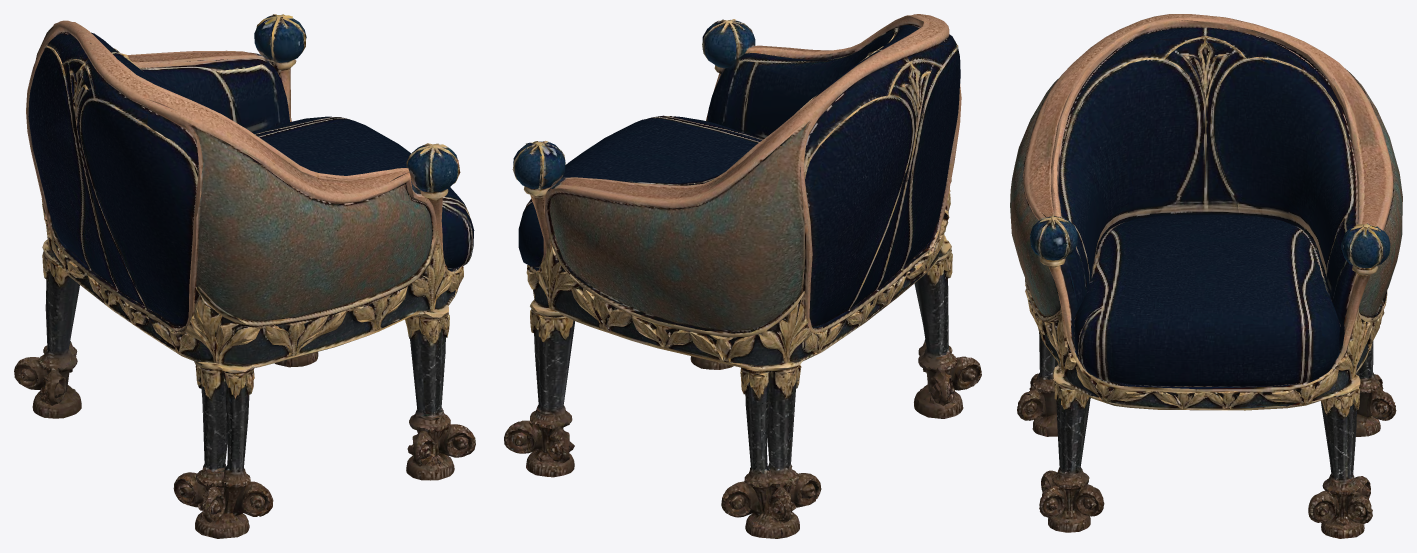
Rendered from HY-02_armchair_game.glb.
The picture shows the model from 3 angles, left to right: view 1: azimuth 30°, elevation 25°; view 2: azimuth 150°, elevation 25°; view 3: azimuth 270°, elevation 25°; orthographic projection. The views are drawn at different scales.
Visible parts, largest first — view 1: HY-02_armchair; view 2: HY-02_armchair; view 3: HY-02_armchair.
Part boxes in pixels (x1,y1,x2,y2): HY-02_armchair: (14, 14, 475, 538); HY-02_armchair: (504, 14, 981, 538); HY-02_armchair: (1010, 14, 1402, 538).
Size of the model in its own units: 0.8356 by 0.9795 by 0.8868.
1 material, 1 textured.
